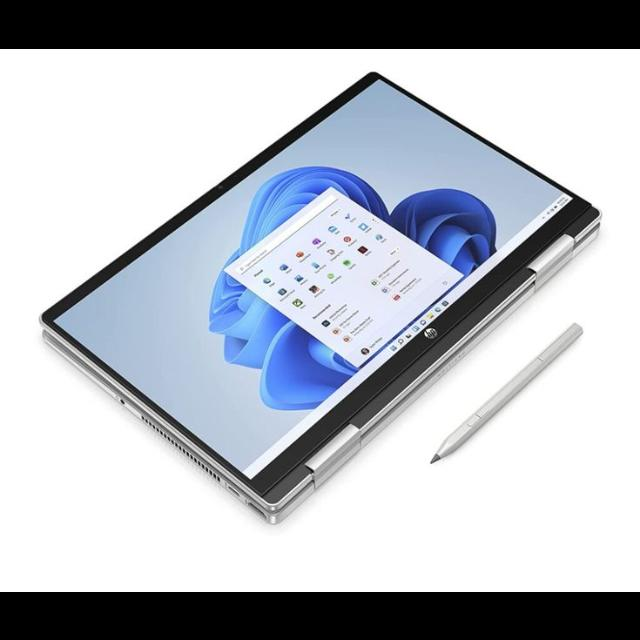laptop: (23, 65, 627, 525)
